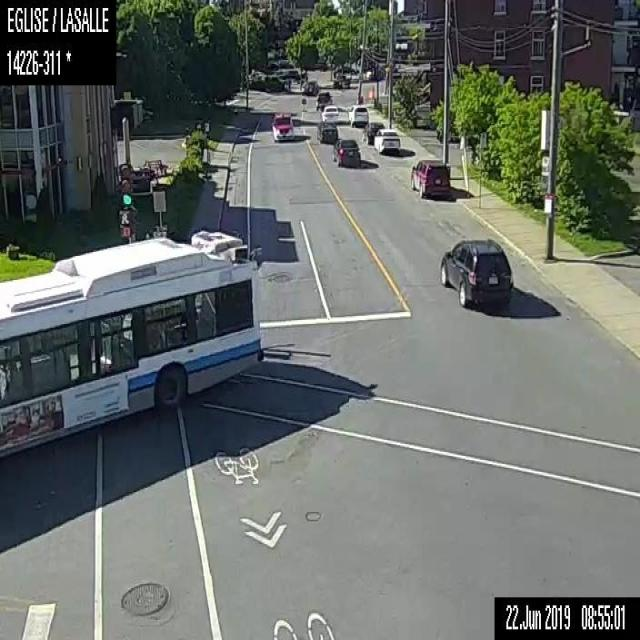bus: (0, 227, 264, 460)
vehicle: (439, 235, 513, 308), (410, 156, 448, 195), (373, 128, 400, 155), (270, 109, 292, 140), (331, 138, 359, 161), (360, 120, 385, 145), (345, 103, 368, 127), (316, 119, 337, 142), (315, 90, 333, 110), (321, 103, 339, 122), (332, 73, 352, 89), (300, 79, 317, 95)
